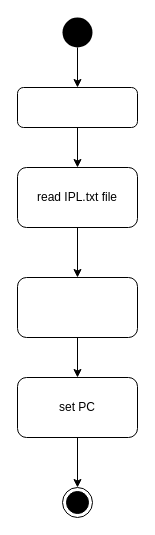
Some shapes in this 155 by 535 pixel diagram are drawn without their labels. The centre of each missing label's shape, as x and y in pixels:
IPL button is clicked: the point at 77,107
set Memory: the point at 77,307
